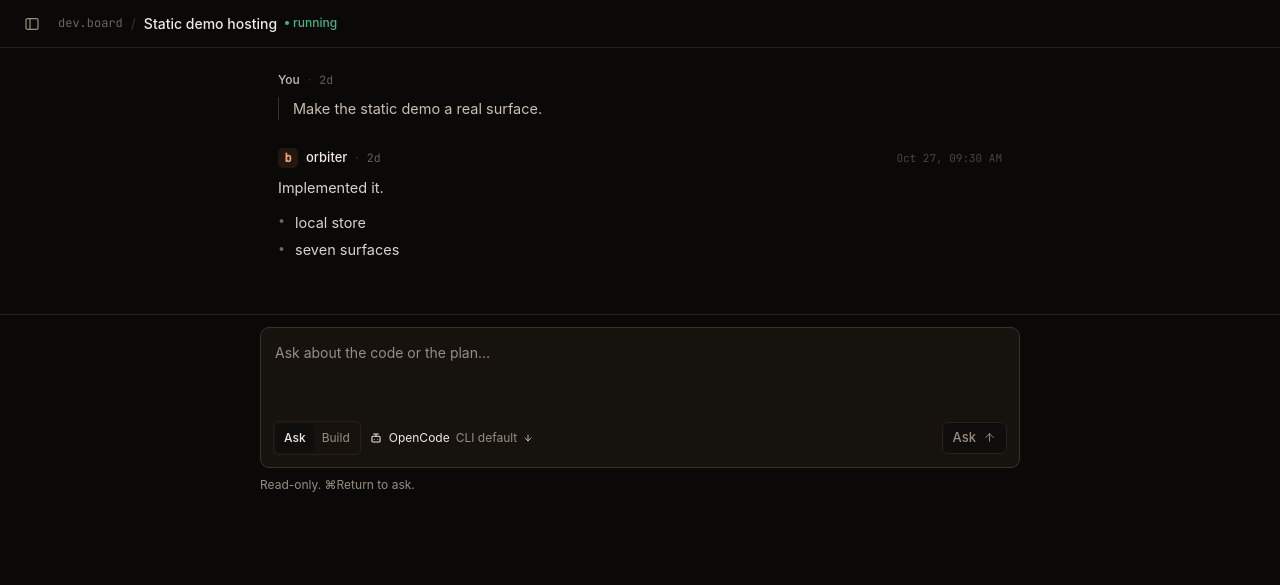
it: ThreadPane › loads the thread, renders prose, and sends a message
The width and height of the screenshot is (1280, 585).
expect the text "Static demo hosting" is shown: met, box [144,13,277,34]
expect the text "Make the static demo a real surface." is shown: met, box [278,97,1002,120]
Click the button "Build" at x=336, y=438, box [314,424,358,452]
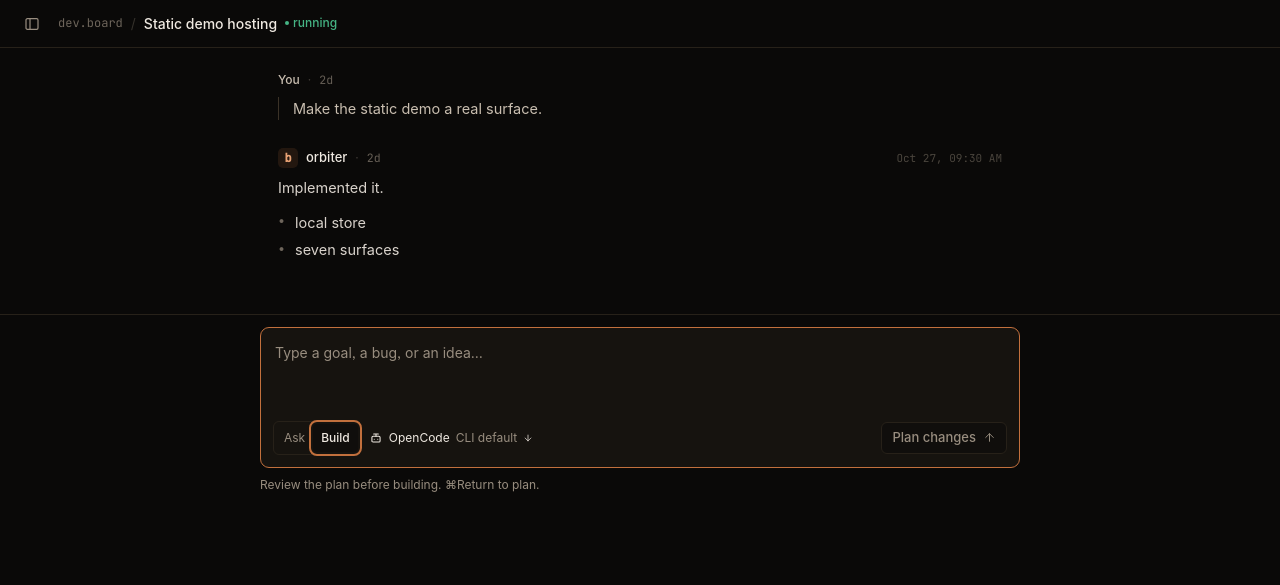
Type "Please add a regression test." into the 2nd text box with test id "thread-composer" at x=640, y=375, box [273,340,1007,410]
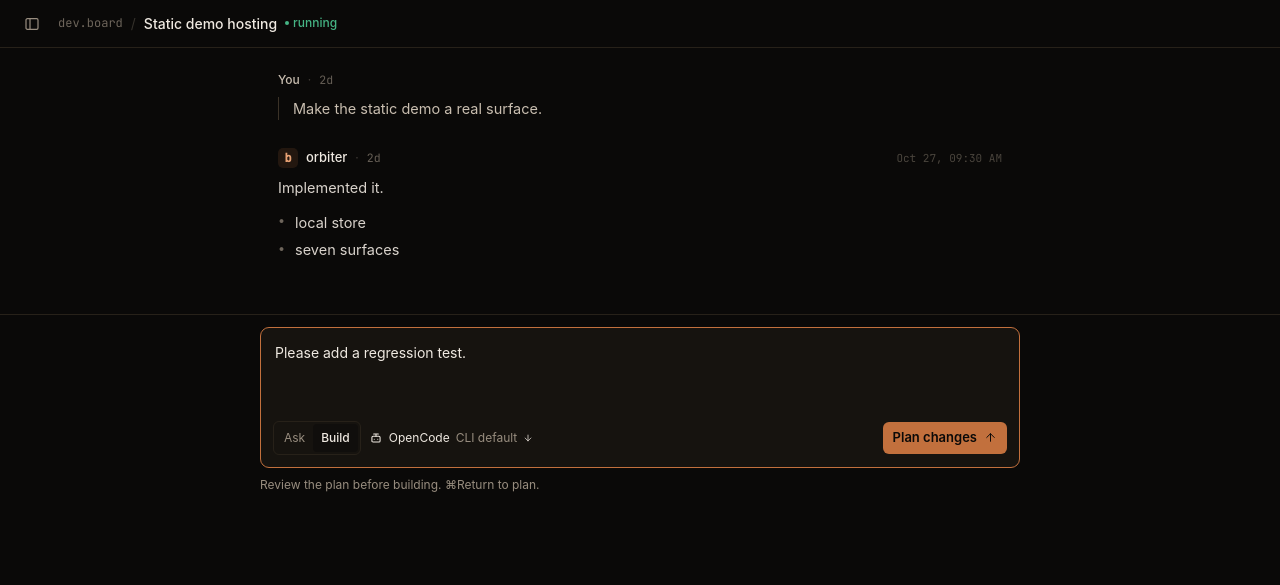
Type keys "{Meta>}{Enter}{/Meta}"
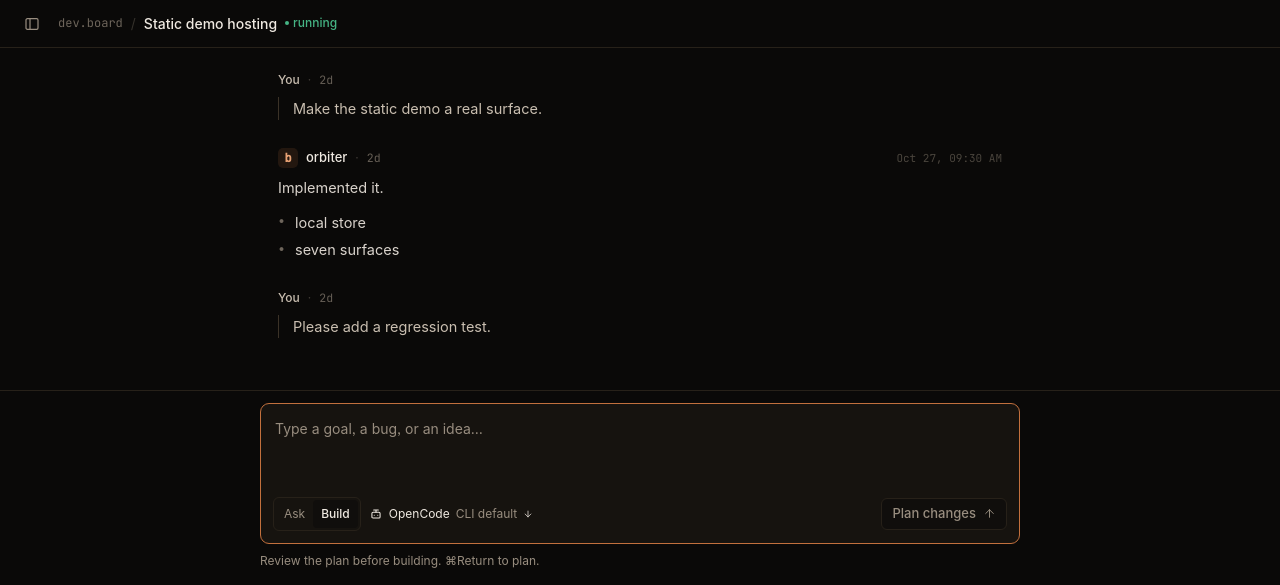
expect the text "Please add a regression test." is shown: met, box [278,314,1002,338]
